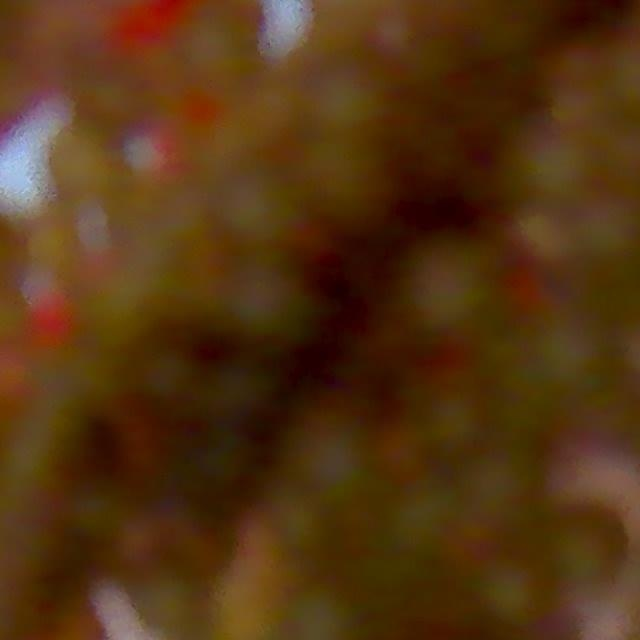SeaGrape: (399, 236, 505, 330), (298, 128, 379, 237), (225, 264, 322, 354), (204, 178, 304, 264), (165, 0, 270, 73), (464, 558, 553, 640), (540, 511, 626, 592), (39, 128, 121, 210), (530, 314, 609, 395), (518, 130, 596, 205), (131, 568, 210, 640), (576, 193, 640, 271), (138, 342, 202, 410), (424, 387, 488, 455), (62, 482, 126, 548), (287, 588, 363, 640)
